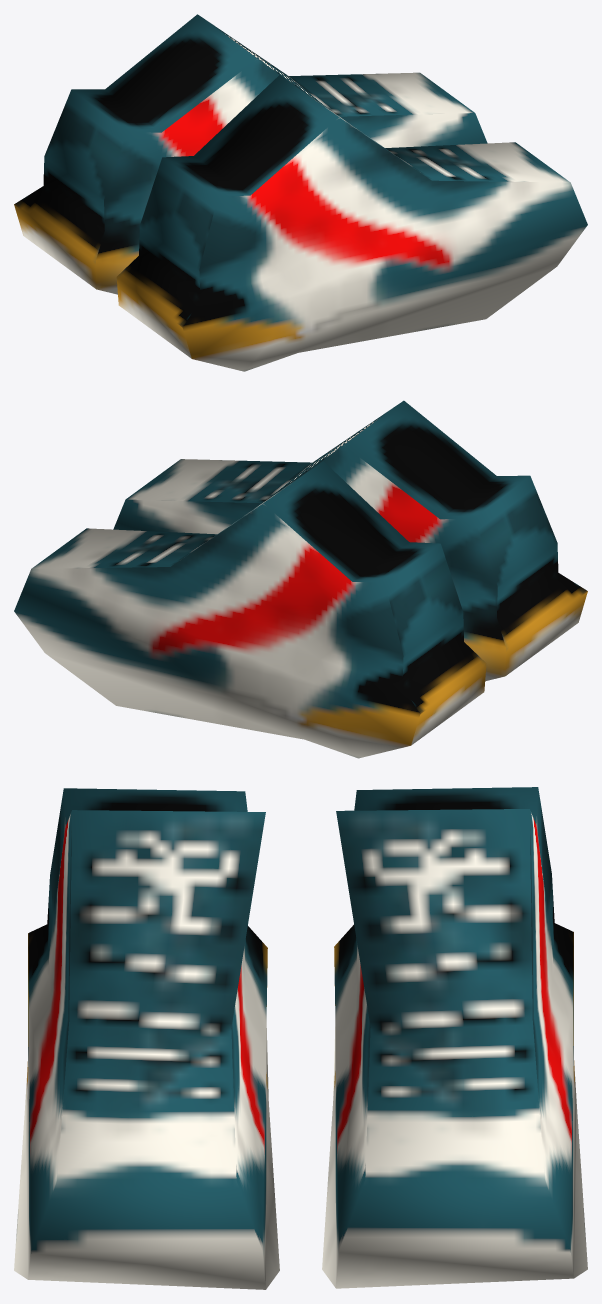
The model's file is sneakers.glb.
3 views of the same model, one above another, from view 1: azimuth 30°, elevation 25°; view 2: azimuth 150°, elevation 25°; view 3: azimuth 270°, elevation 25° (orthographic). The views are drawn at different scales.
Visible parts, largest first — view 1: node_id4; view 2: node_id4; view 3: node_id4.
Part boxes in pixels (x1=…): node_id4: x1=14, y1=14, x2=587, y2=371; node_id4: x1=14, y1=400, x2=587, y2=758; node_id4: x1=14, y1=787, x2=587, y2=1289.
Size of the model in its own units: 0.512 by 0.2651 by 0.3846.
1 material, 1 textured.
